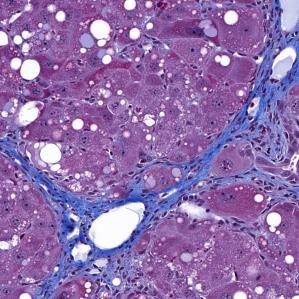fibrosis: (232, 73, 298, 196), (39, 168, 99, 265)
